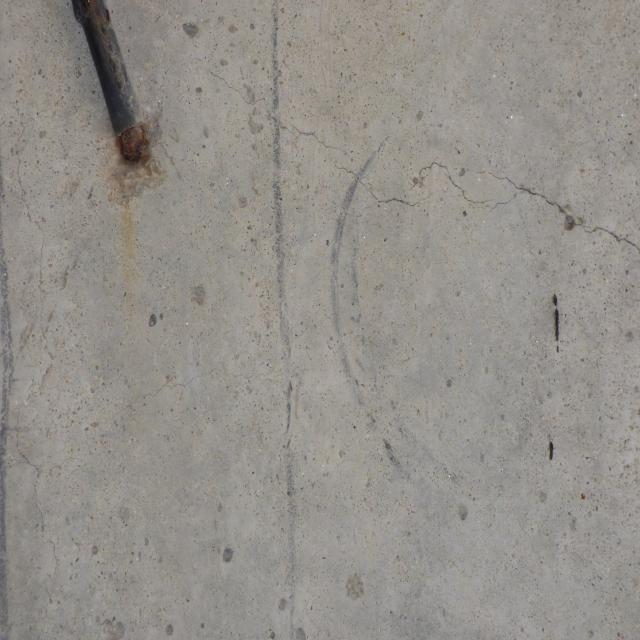corrosion: (66, 0, 160, 304), (552, 291, 563, 360), (545, 438, 556, 462), (578, 489, 589, 502)
